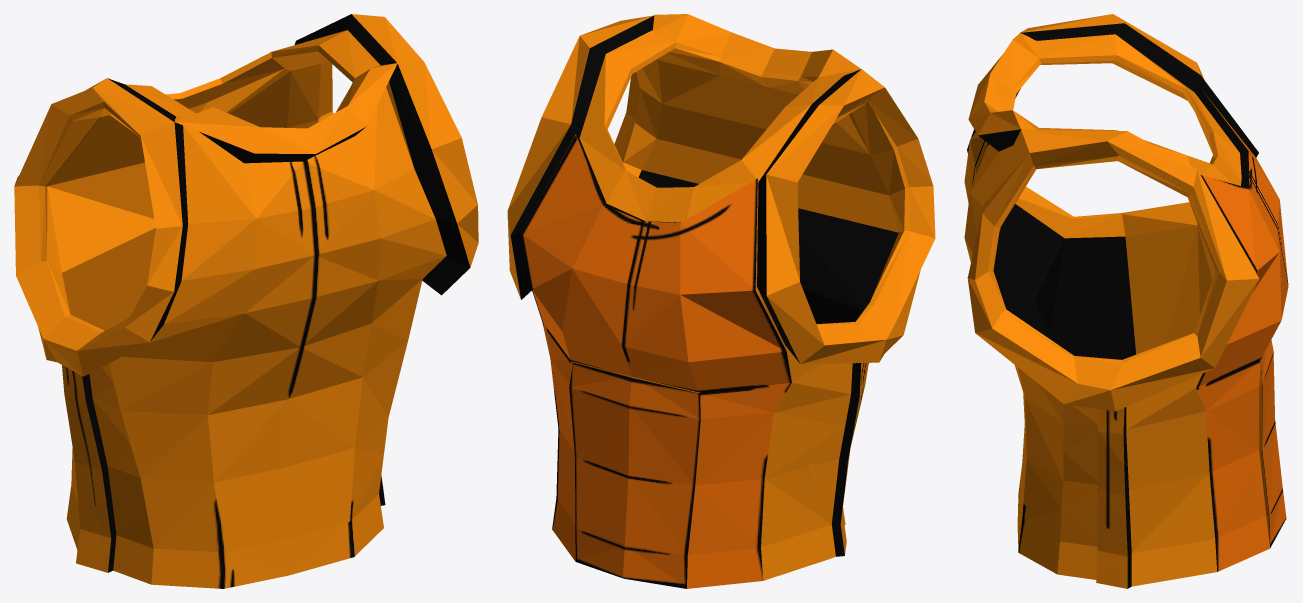
Rendered from amor.fbx.
The picture shows the model from 3 angles, left to right: view 1: azimuth 30°, elevation 25°; view 2: azimuth 150°, elevation 25°; view 3: azimuth 270°, elevation 25°; orthographic projection. The views are drawn at different scales.
Parts seen in each view (by area): view 1: armor1; view 2: armor1; view 3: armor1.
Part boxes in pixels (x1,y1,x2,y2): armor1: (14, 14, 478, 588); armor1: (507, 14, 935, 588); armor1: (964, 14, 1288, 588).
Bounding box in the file's own units: 0.5857 × 0.7184 × 0.4678.
1 material, 1 textured.
